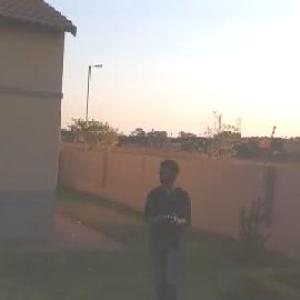follow: (136, 152, 192, 299)
